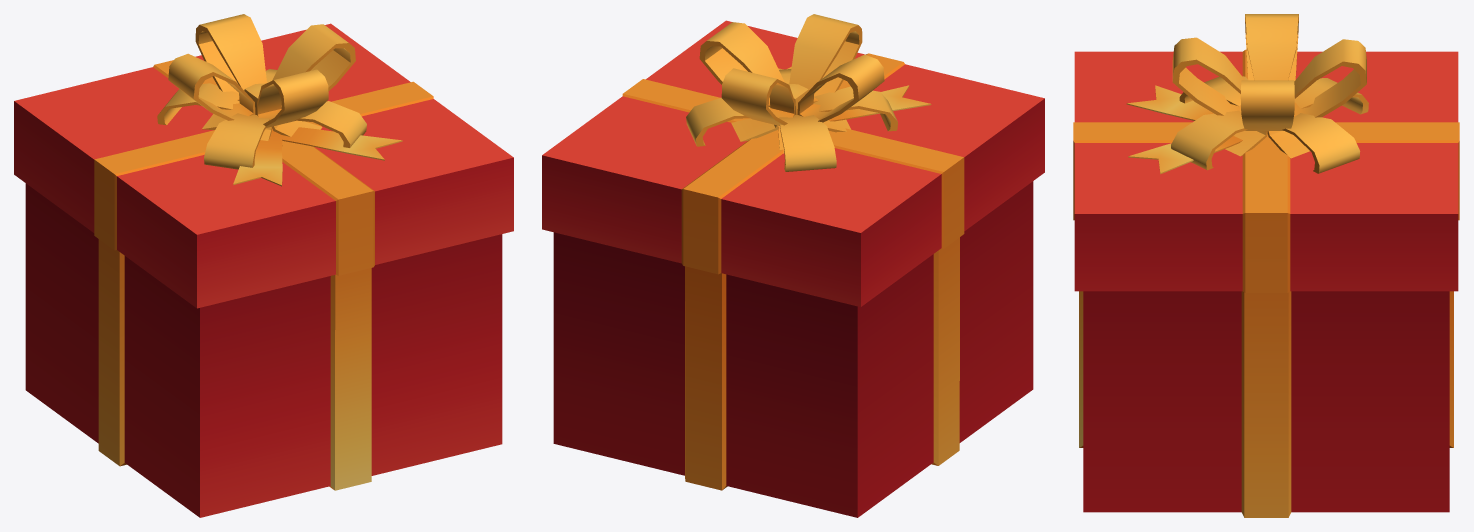
Rendered from CR_Giftbox_001_A.FBX.
The picture shows the model from 3 angles, left to right: view 1: azimuth 30°, elevation 25°; view 2: azimuth 150°, elevation 25°; view 3: azimuth 270°, elevation 25°; orthographic projection. The views are drawn at different scales.
Parts seen in each view (by area): view 1: CR_Giftbox_001_A; view 2: CR_Giftbox_001_A; view 3: CR_Giftbox_001_A.
Boxes of the visible parts, left/top/right/bottom form: CR_Giftbox_001_A: left=14, top=14, right=513, bottom=517; CR_Giftbox_001_A: left=542, top=14, right=1044, bottom=517; CR_Giftbox_001_A: left=1073, top=14, right=1459, bottom=517.
Size of the model in its own units: 79.41 by 88.29 by 79.41.
